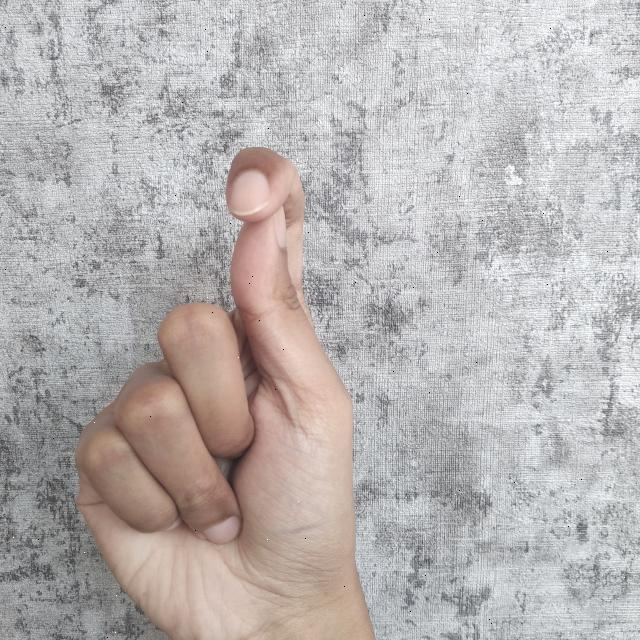T: (73, 136, 375, 640)
